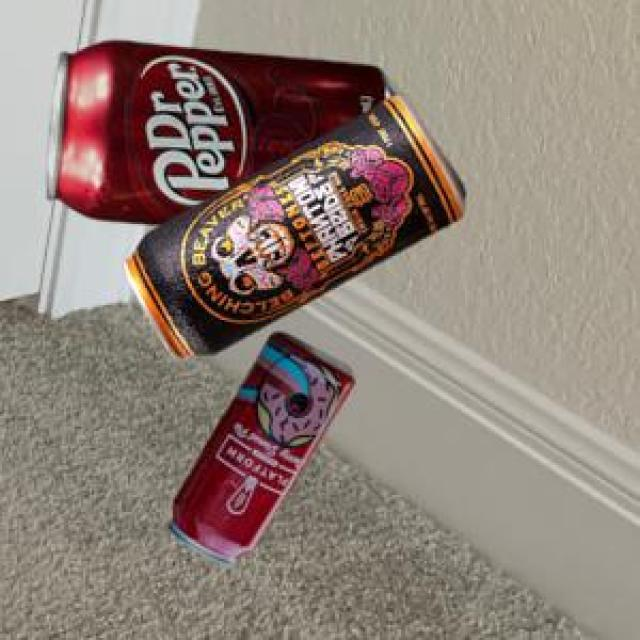Can: (121, 93, 462, 357), (44, 37, 391, 221), (165, 330, 351, 562)
